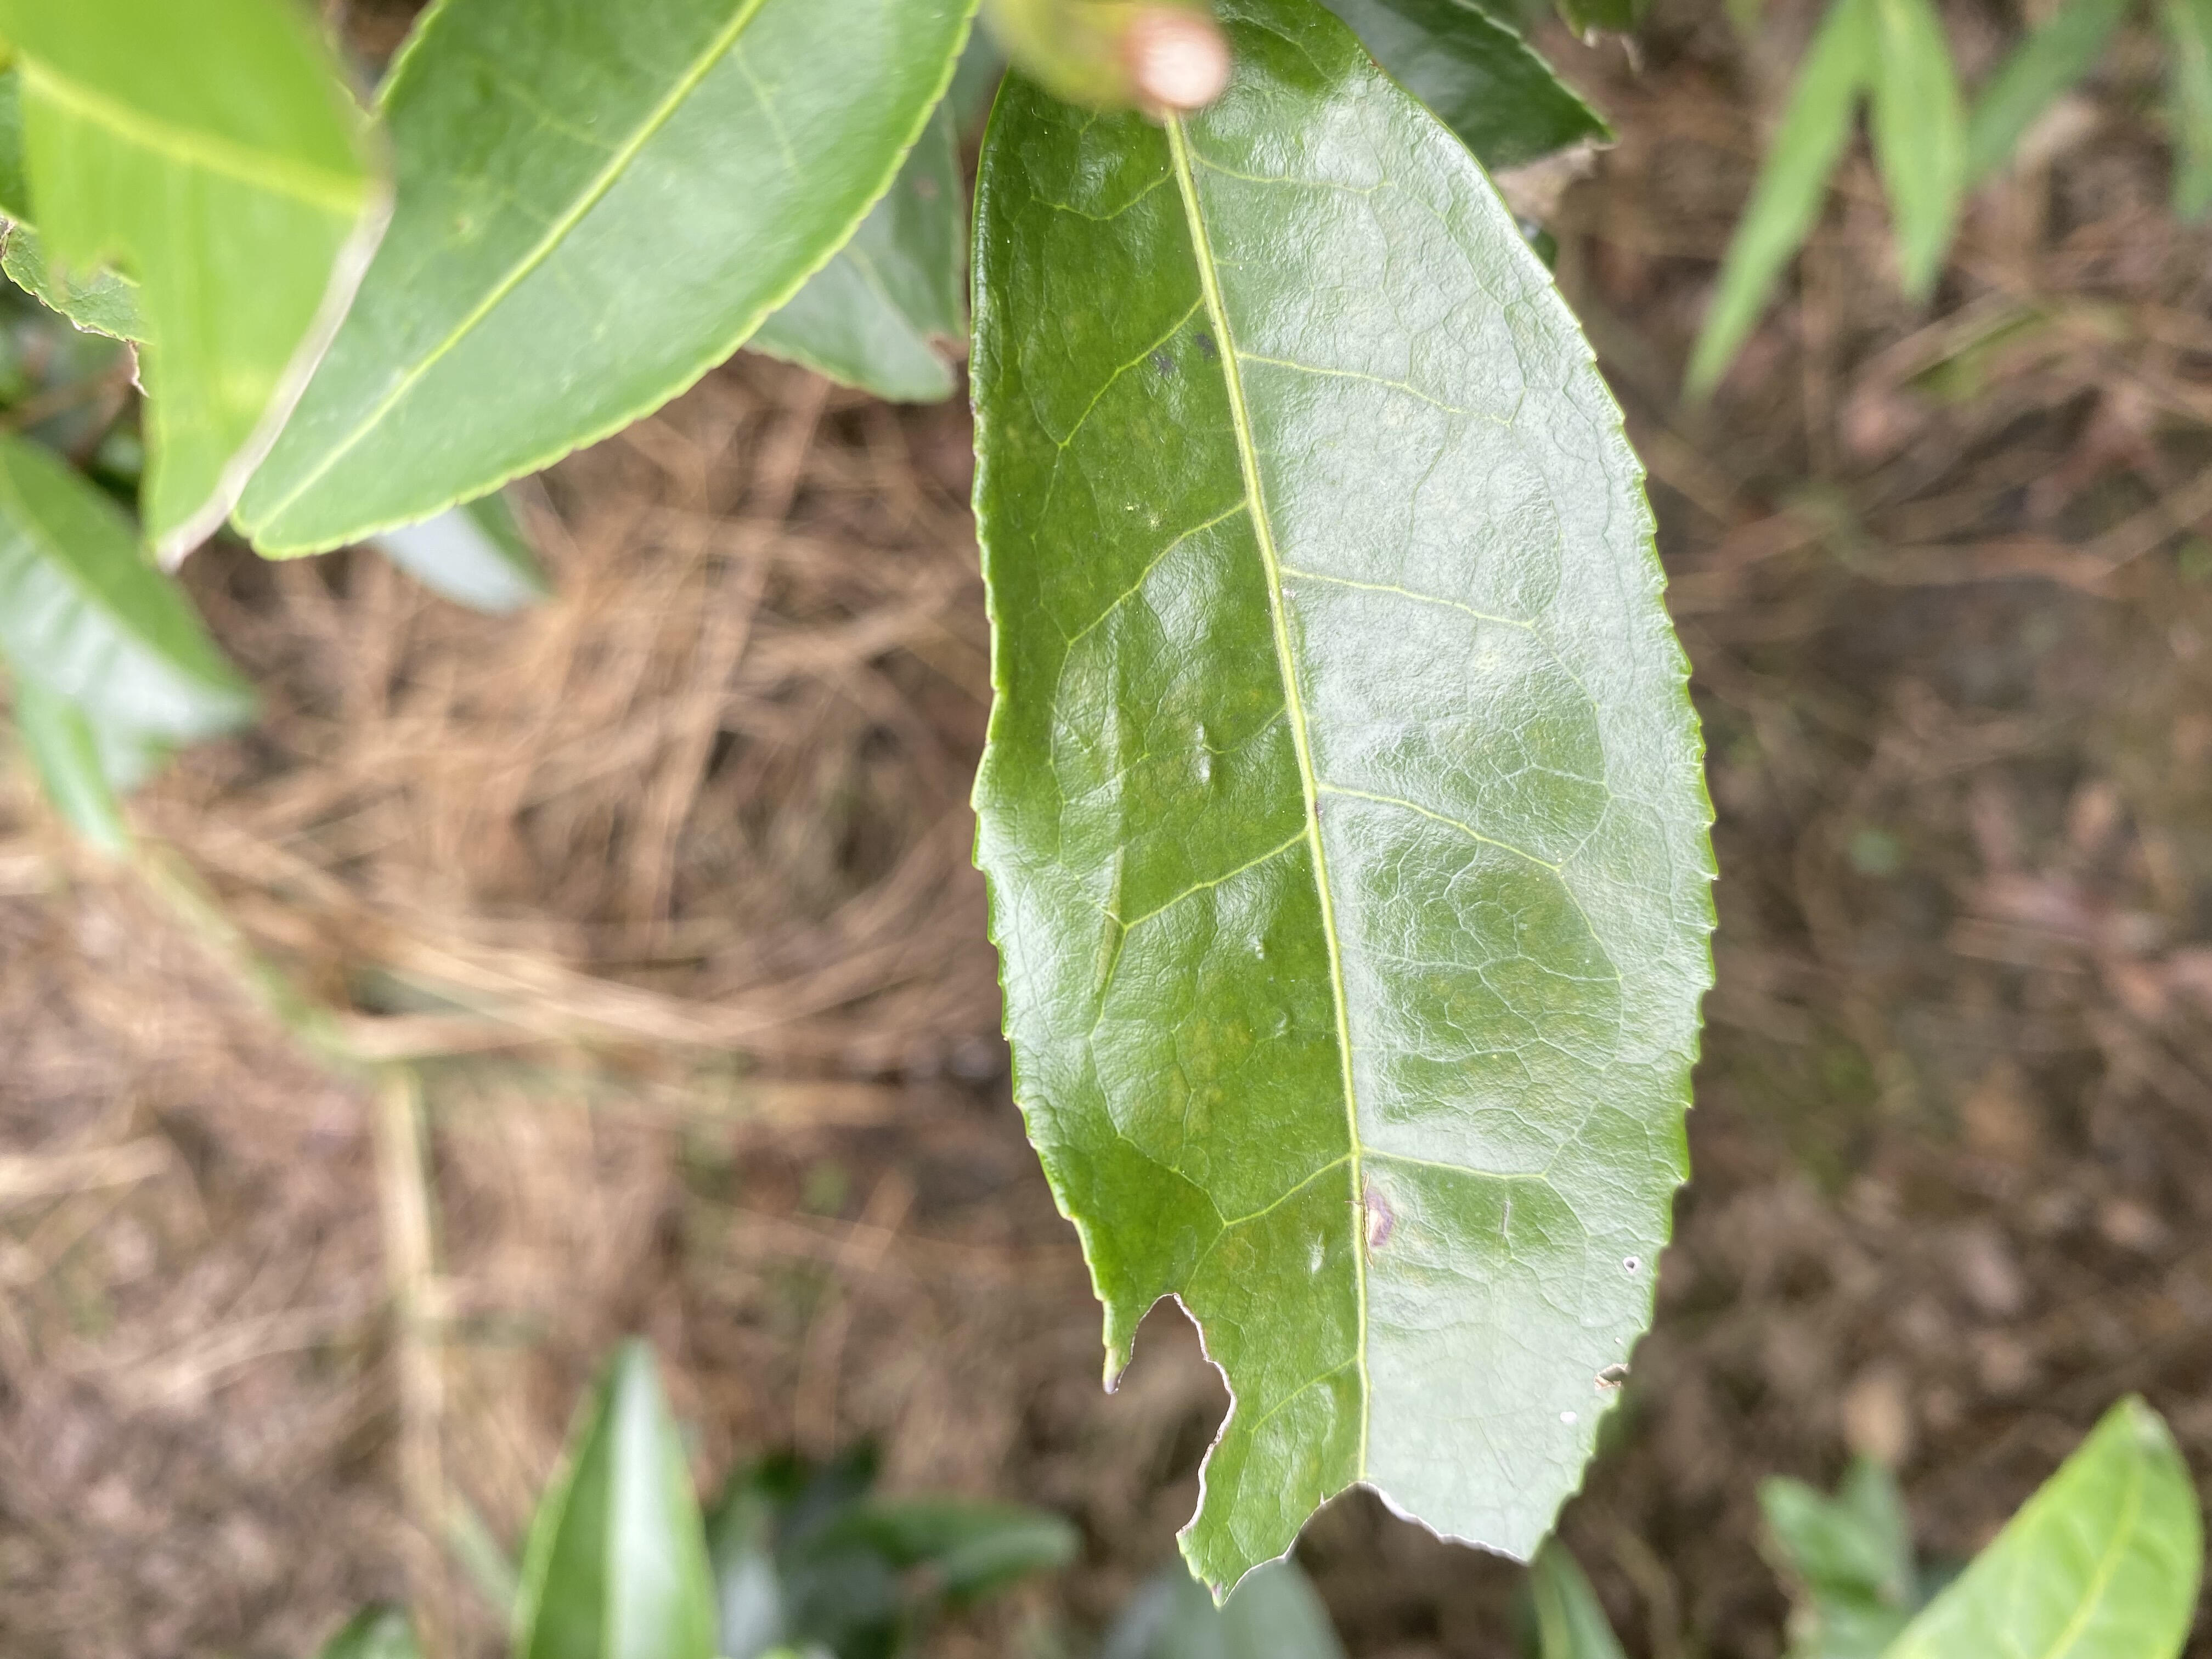chihuo_high: (967, 7, 1724, 1614)
